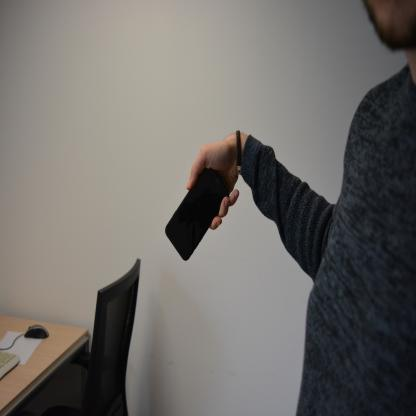smartphone: (164, 165, 230, 261)
